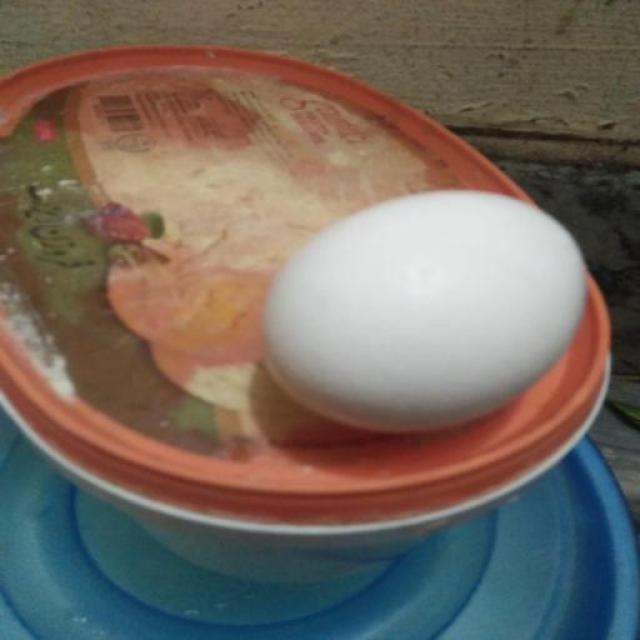telur: (262, 189, 584, 435)
